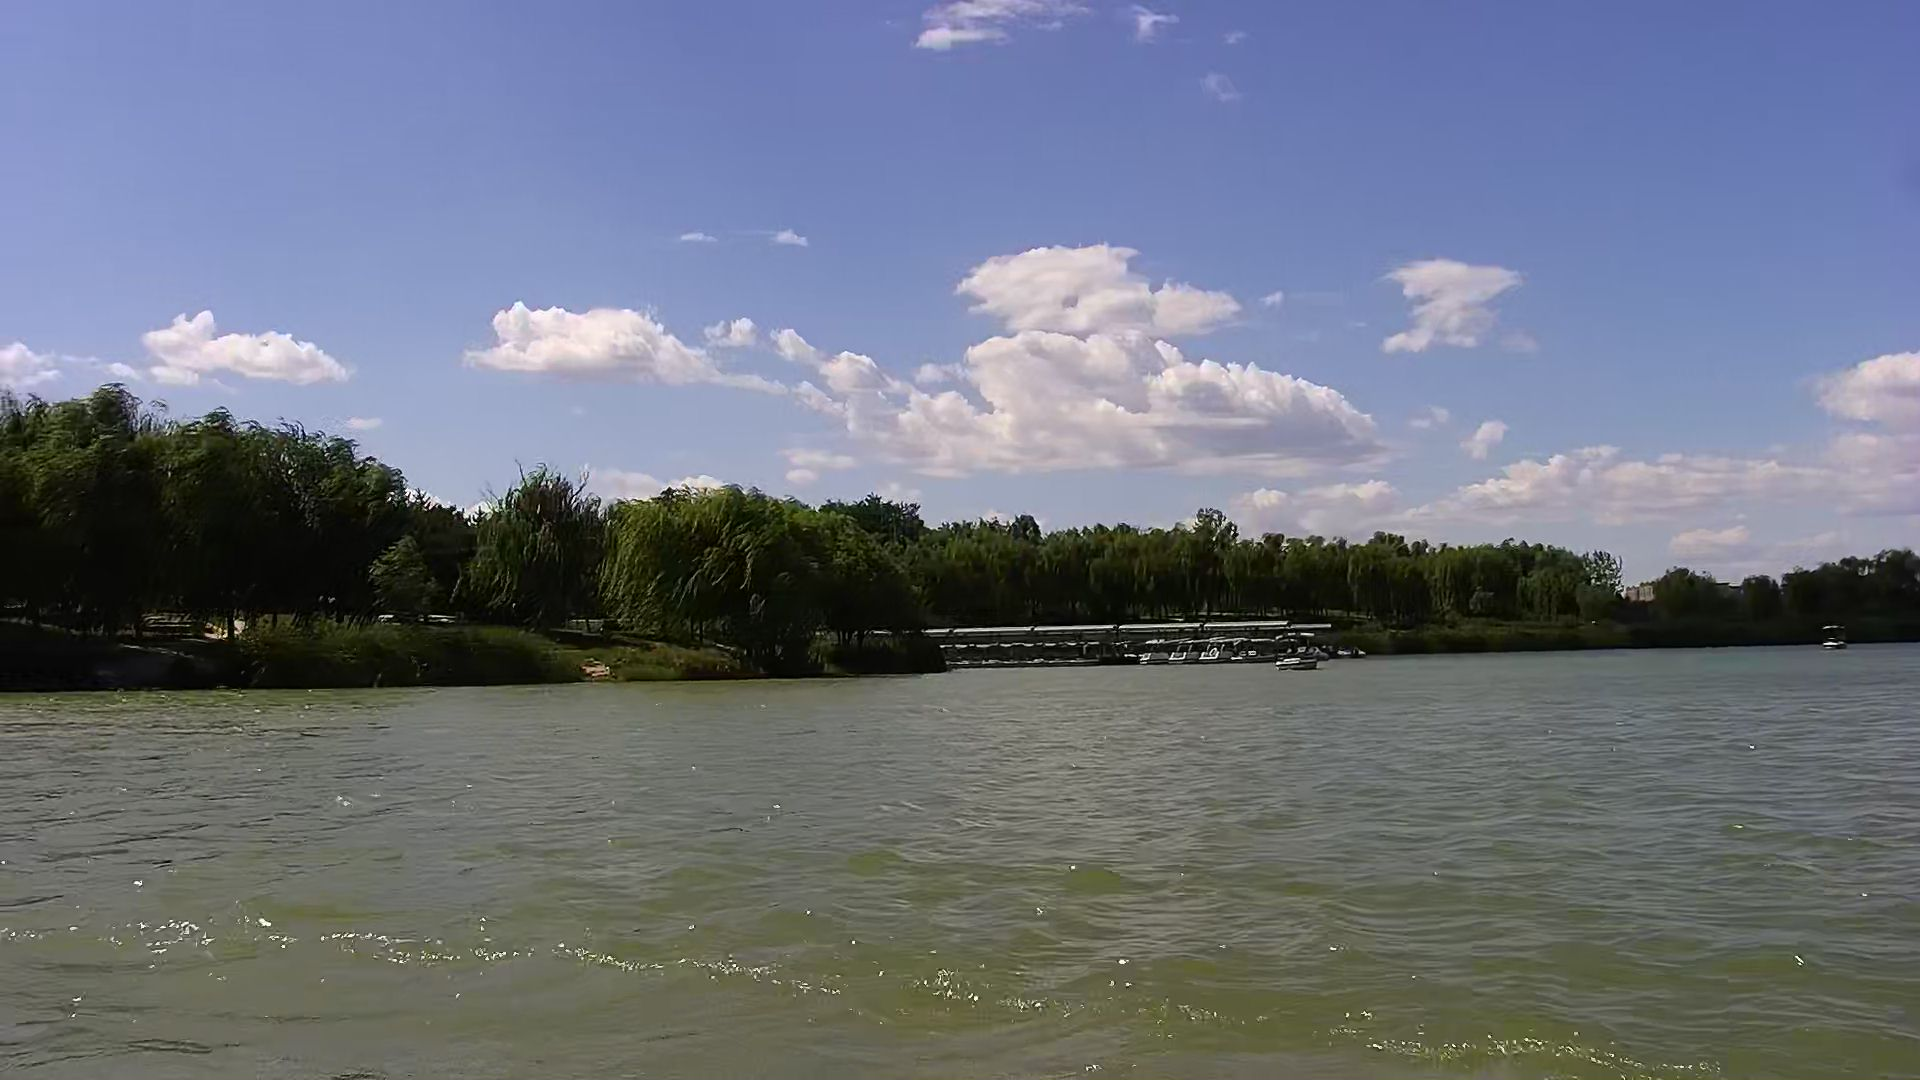boat: (1201, 636, 1244, 665), (1232, 636, 1271, 661), (1171, 640, 1208, 665), (1135, 640, 1166, 666), (1820, 621, 1845, 653), (1276, 658, 1317, 670)
harbor: (951, 628, 1352, 669)
